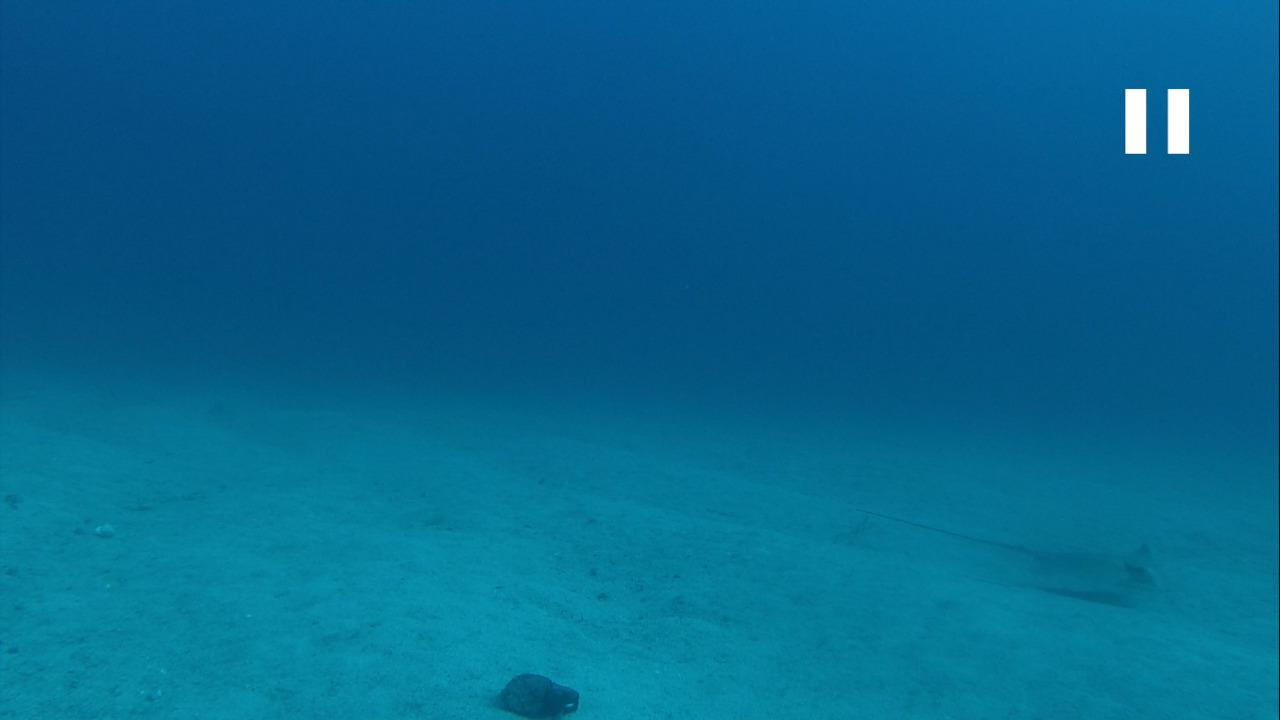myliobatis: (845, 497, 1170, 609)
